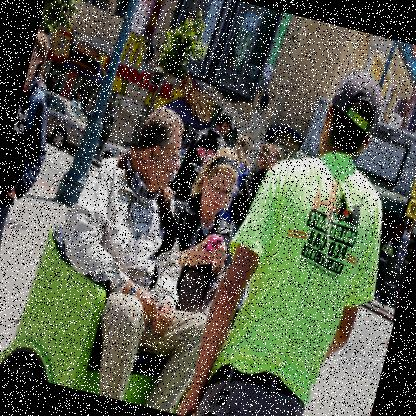Car: (34, 83, 96, 153), (100, 138, 188, 184)
